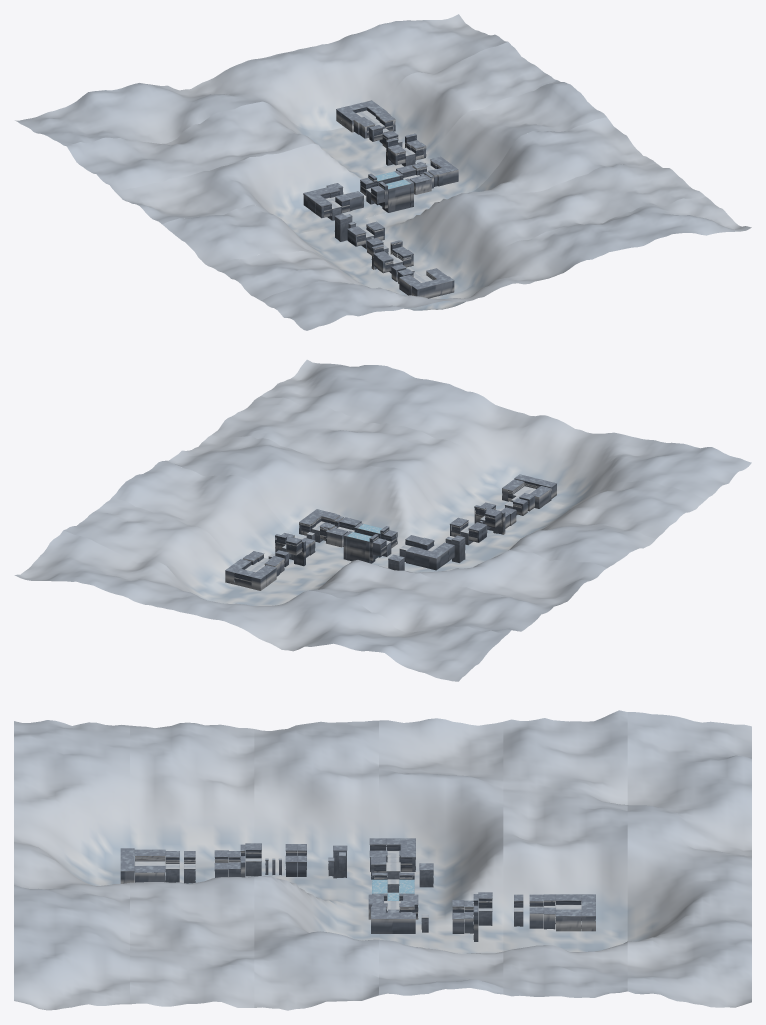
File: blizzard_pass_terrain.glb
3 renders of one model, top to bottom at view 1: azimuth 30°, elevation 25°; view 2: azimuth 150°, elevation 25°; view 3: azimuth 270°, elevation 25°, orthographic. The views are drawn at different scales.
Visible parts, largest first — view 1: backdrop_5, backdrop_4, backdrop_3, backdrop_1, backdrop_2, backdrop_0, terrain_E, terrain_H, terrain_F, terrain_D, terrain_I, terrain_A (+4 smaller); view 2: backdrop_0, backdrop_1, backdrop_2, backdrop_5, backdrop_4, backdrop_3, terrain_E, terrain_J, terrain_F, terrain_A, terrain_D, terrain_I (+4 smaller); view 3: backdrop_5, backdrop_2, backdrop_0, backdrop_4, backdrop_1, backdrop_3, terrain_E, terrain_J, terrain_I, terrain_H, terrain_C, terrain_A (+4 smaller).
Boxes of the visible parts, bbox=[...] form: backdrop_5: bbox=[15, 14, 507, 145]; backdrop_4: bbox=[64, 42, 557, 190]; backdrop_3: bbox=[113, 80, 606, 233]; backdrop_1: bbox=[212, 163, 705, 300]; backdrop_2: bbox=[162, 117, 655, 270]; backdrop_0: bbox=[261, 196, 751, 330]; terrain_E: bbox=[303, 178, 384, 213]; terrain_H: bbox=[391, 142, 458, 186]; terrain_F: bbox=[368, 170, 413, 212]; terrain_D: bbox=[315, 194, 379, 245]; terrain_I: bbox=[359, 115, 420, 165]; terrain_A: bbox=[399, 268, 454, 298]; backdrop_0: bbox=[261, 359, 751, 505]; backdrop_1: bbox=[212, 396, 705, 541]; backdrop_2: bbox=[162, 435, 655, 571]; backdrop_5: bbox=[14, 530, 507, 681]; backdrop_4: bbox=[64, 497, 555, 633]; backdrop_3: bbox=[113, 461, 606, 606]; terrain_E: bbox=[372, 530, 448, 570]; terrain_J: bbox=[225, 555, 279, 590]; terrain_F: bbox=[343, 523, 389, 563]; terrain_A: bbox=[502, 474, 556, 508]; terrain_D: bbox=[417, 521, 482, 562]; terrain_I: bbox=[248, 534, 309, 573]; backdrop_5: bbox=[627, 712, 751, 1007]; backdrop_2: bbox=[254, 720, 378, 1010]; backdrop_0: bbox=[14, 720, 129, 1010]; backdrop_4: bbox=[503, 710, 627, 997]; backdrop_1: bbox=[130, 722, 254, 1007]; backdrop_3: bbox=[379, 718, 503, 995]; terrain_E: bbox=[371, 838, 433, 892]; terrain_J: bbox=[543, 894, 595, 931]; terrain_I: bbox=[464, 892, 543, 941]; terrain_H: bbox=[371, 900, 464, 933]; terrain_C: bbox=[229, 843, 297, 877]; terrain_A: bbox=[120, 848, 165, 883].
Size of the model in its own units: 546 by 66.04 by 623.
